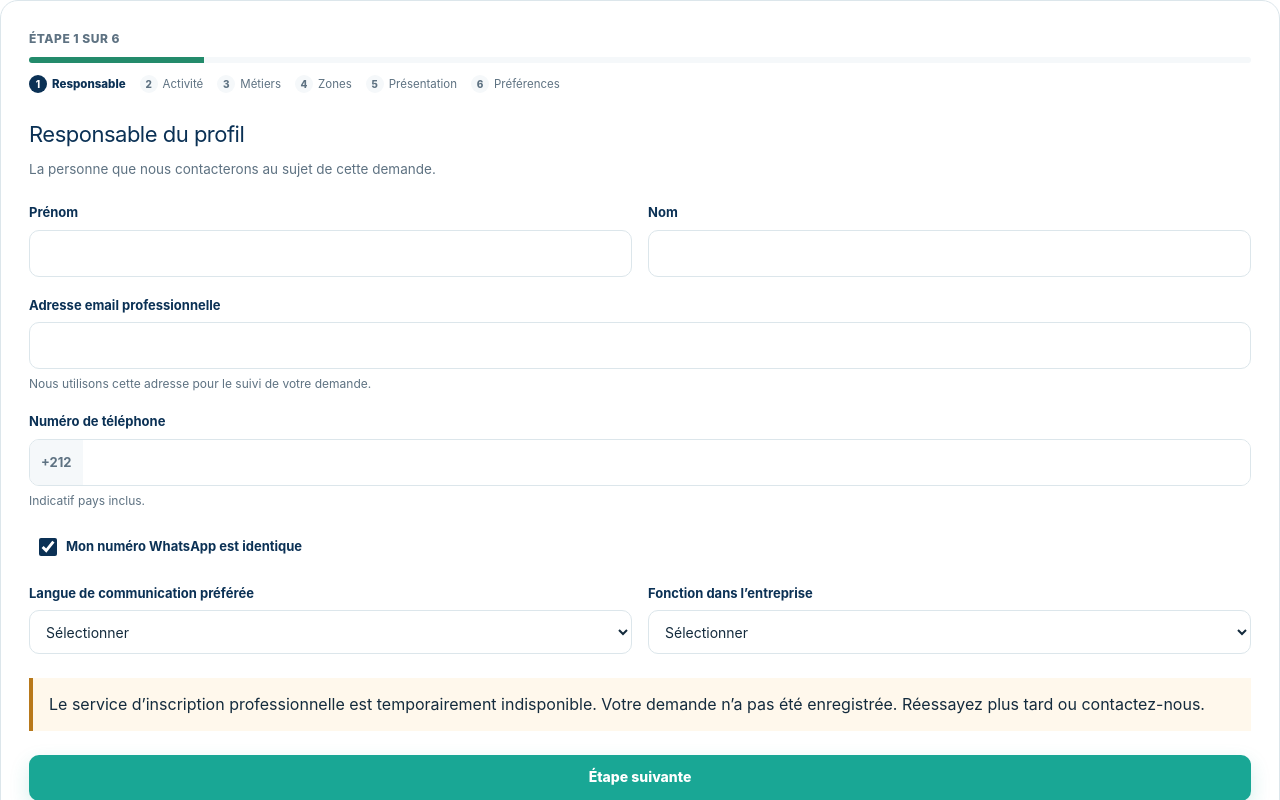
Test: RegistrationForm navigation › blocks the next step and lists the errors when required fields are empty
Step 1. Click the button "Étape suivante" → (640, 778), box [29,755,1251,799]
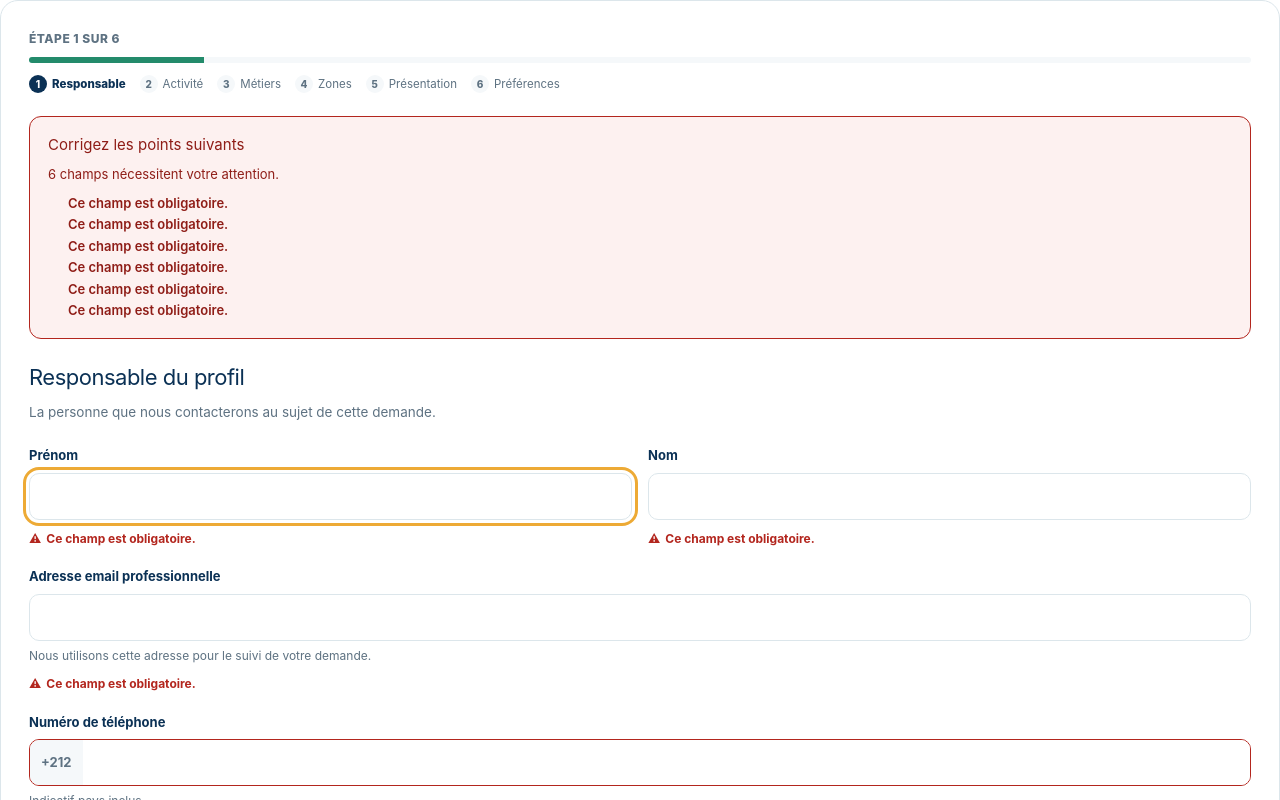
Check: the text "Étape 1 sur 6" is shown, box [29,31,120,46]
Check: the message is shown, box [29,116,1251,339]
Check: the heading "Corrigez les points suivants" is shown, box [48,135,244,154]
